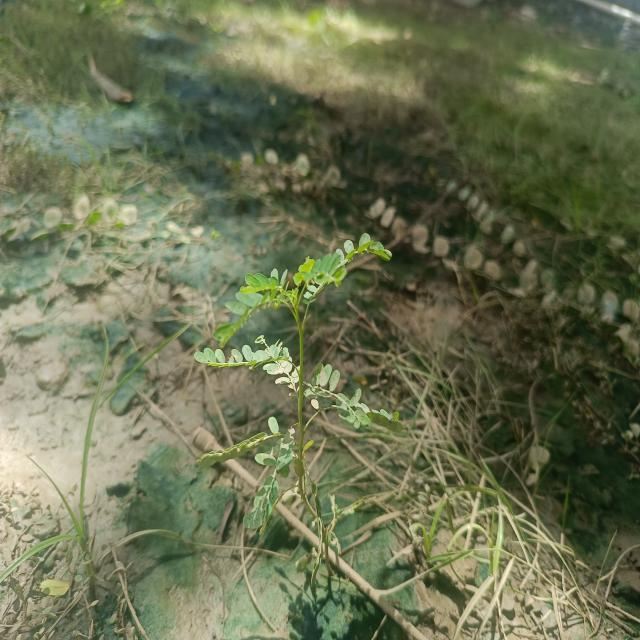weed: (185, 229, 399, 561)
